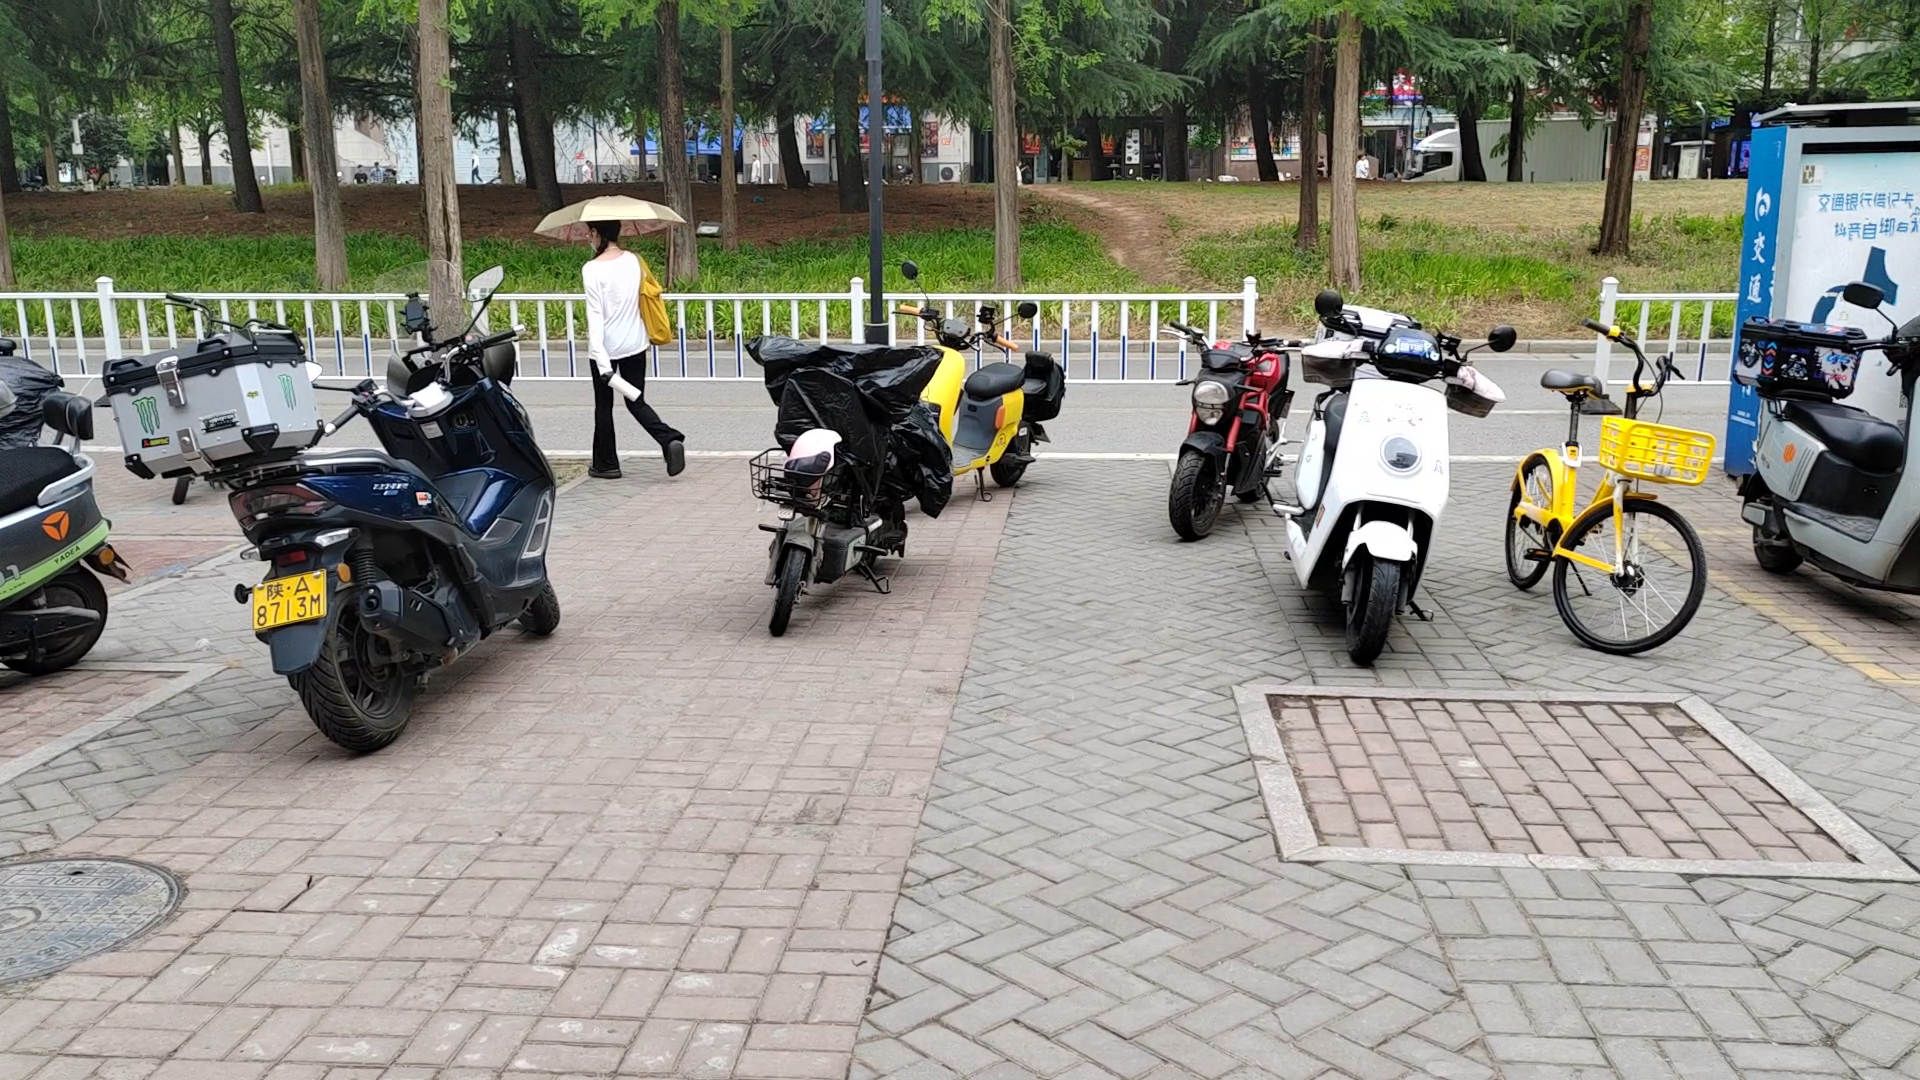others: (117, 290, 576, 752), (1276, 289, 1480, 667), (1716, 274, 1920, 628), (752, 324, 961, 633), (1135, 280, 1283, 553), (895, 276, 1054, 505)
shared_bike_meituan: (1502, 309, 1688, 700)
